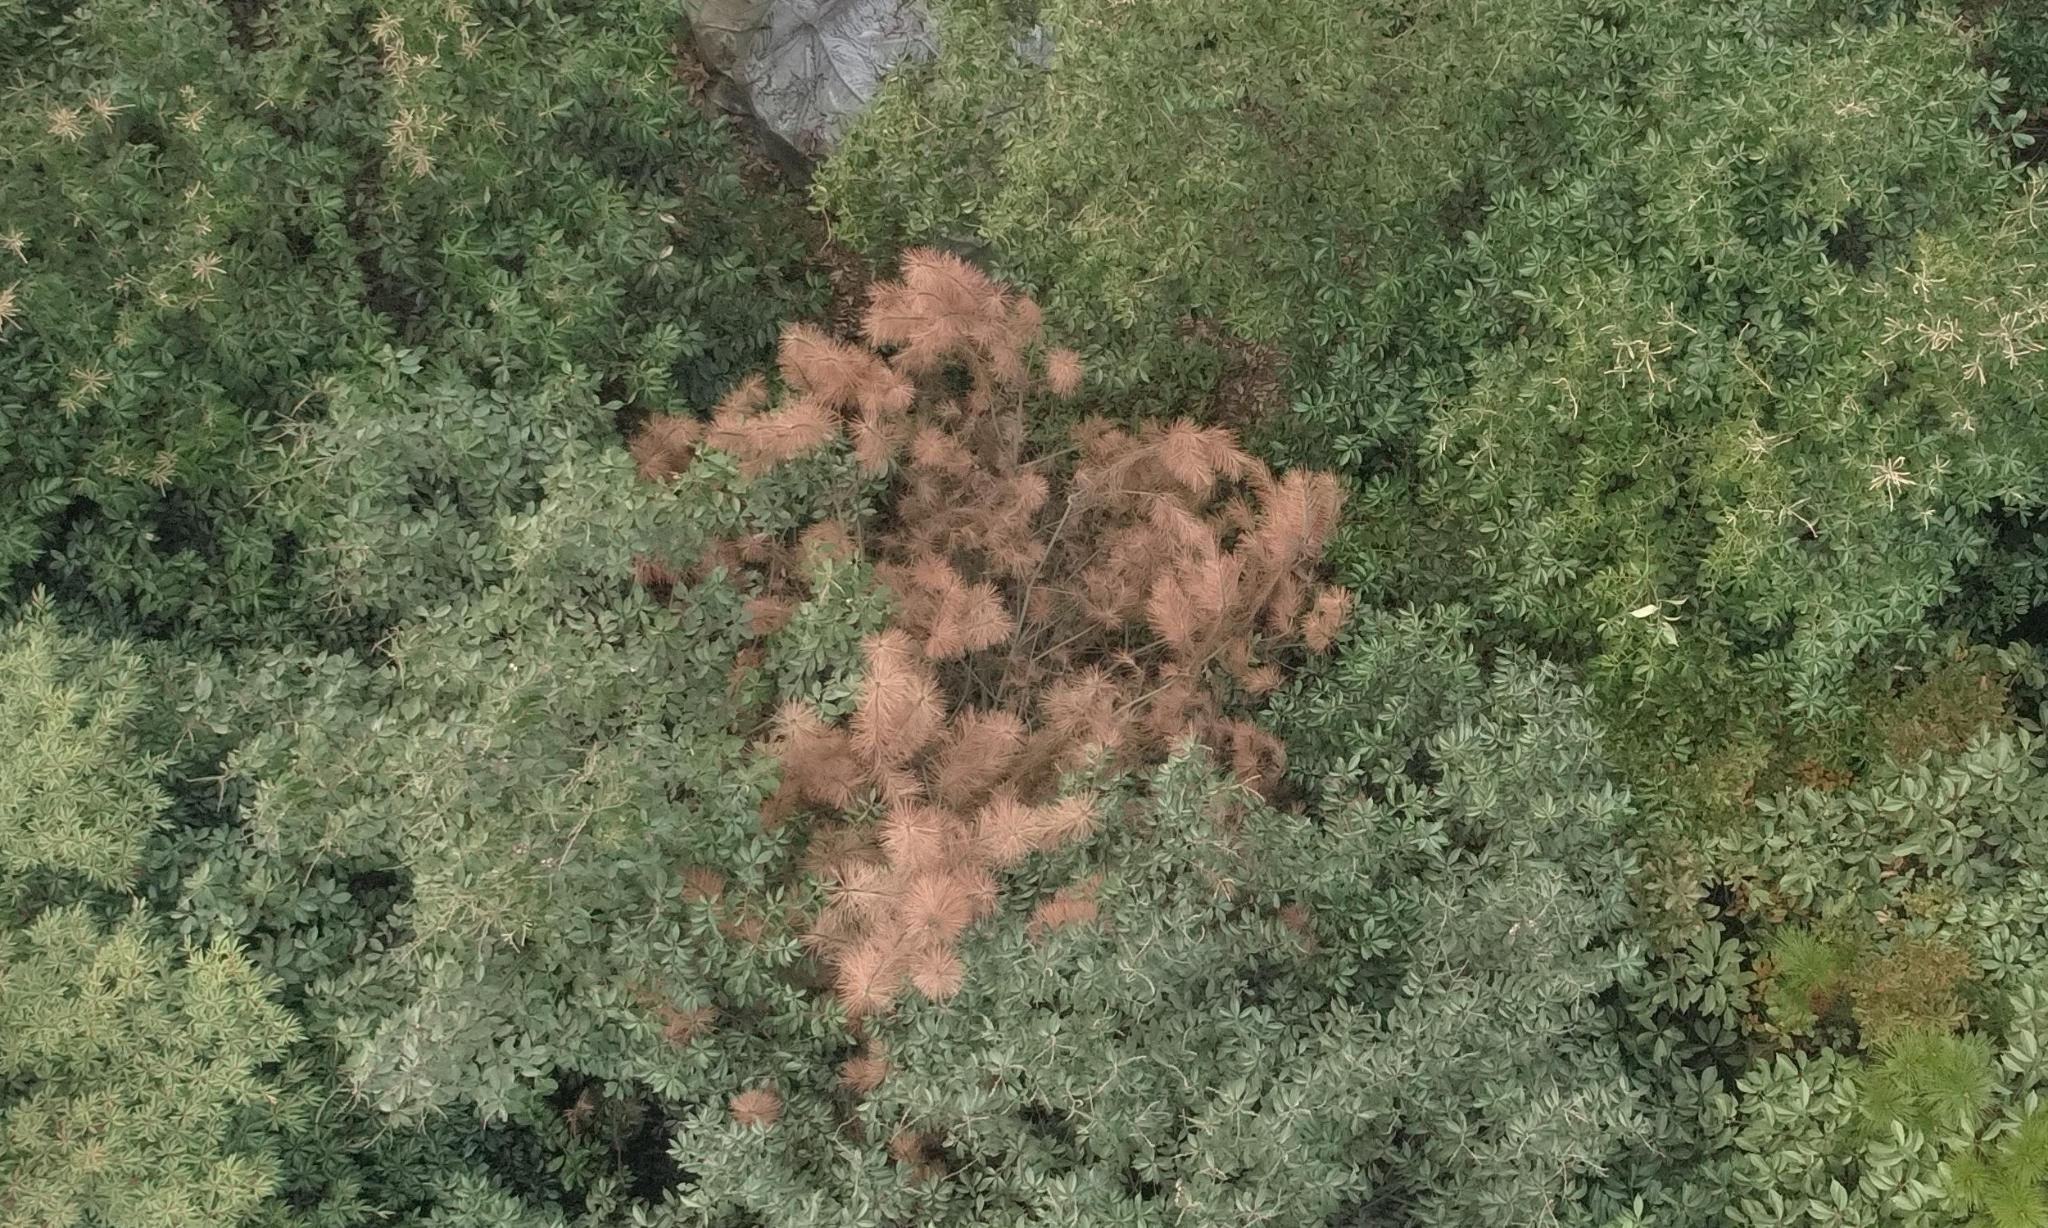heavy: (634, 251, 1345, 1015)
